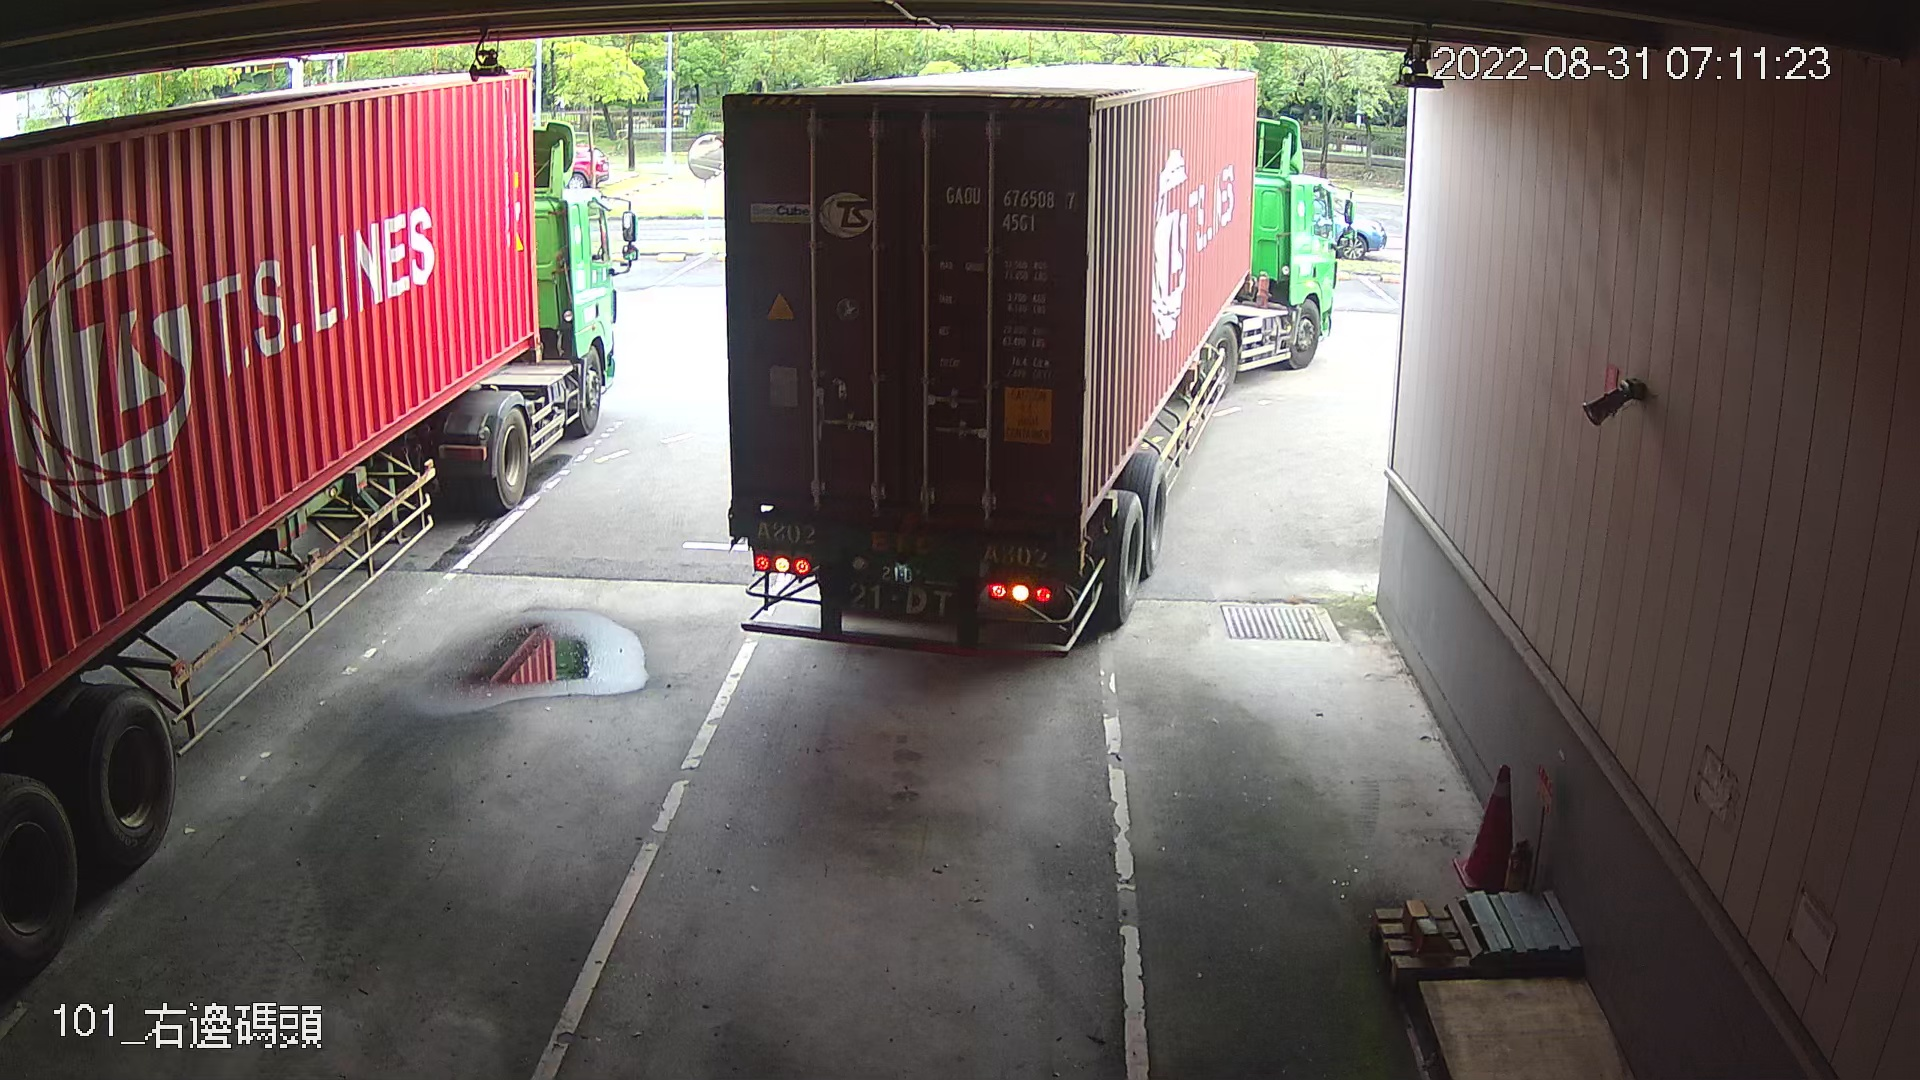container: (938, 177, 1084, 236)
